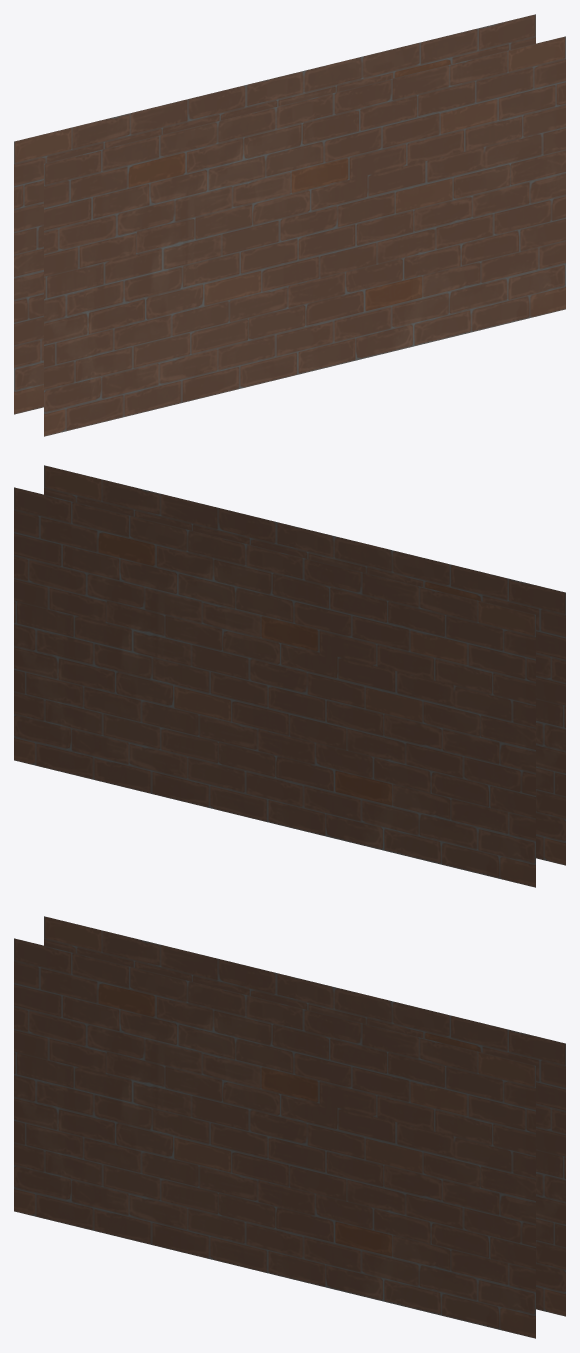
File: q-downtown-brick-plain-1.glb
3 renders of one model, top to bottom at view 1: azimuth 30°, elevation 25°; view 2: azimuth 150°, elevation 25°; view 3: azimuth 330°, elevation 25°, orthographic.
Parts seen in each view (by area): view 1: Brick_Plain_1; view 2: Brick_Plain_1; view 3: Brick_Plain_1.
Part boxes in pixels (left/top/right/bottom): Brick_Plain_1: left=14, top=14, right=565, bottom=436; Brick_Plain_1: left=14, top=465, right=565, bottom=887; Brick_Plain_1: left=14, top=916, right=565, bottom=1338.
Bounding box in the file's own units: 2 × 1 × 0.2.
2 materials, 2 textured.
